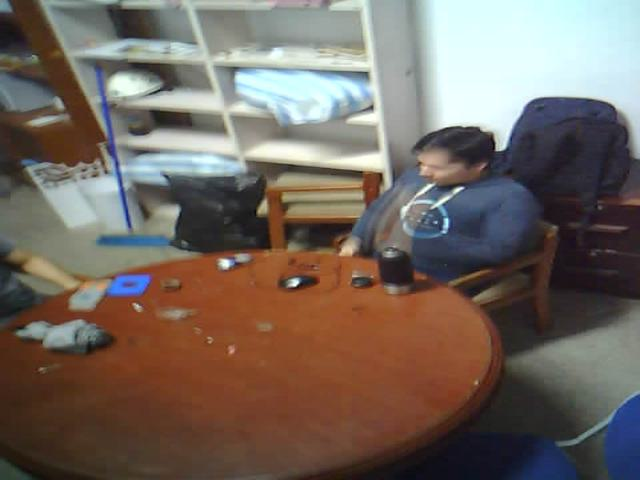person: (335, 87, 574, 336), (0, 185, 104, 330)
